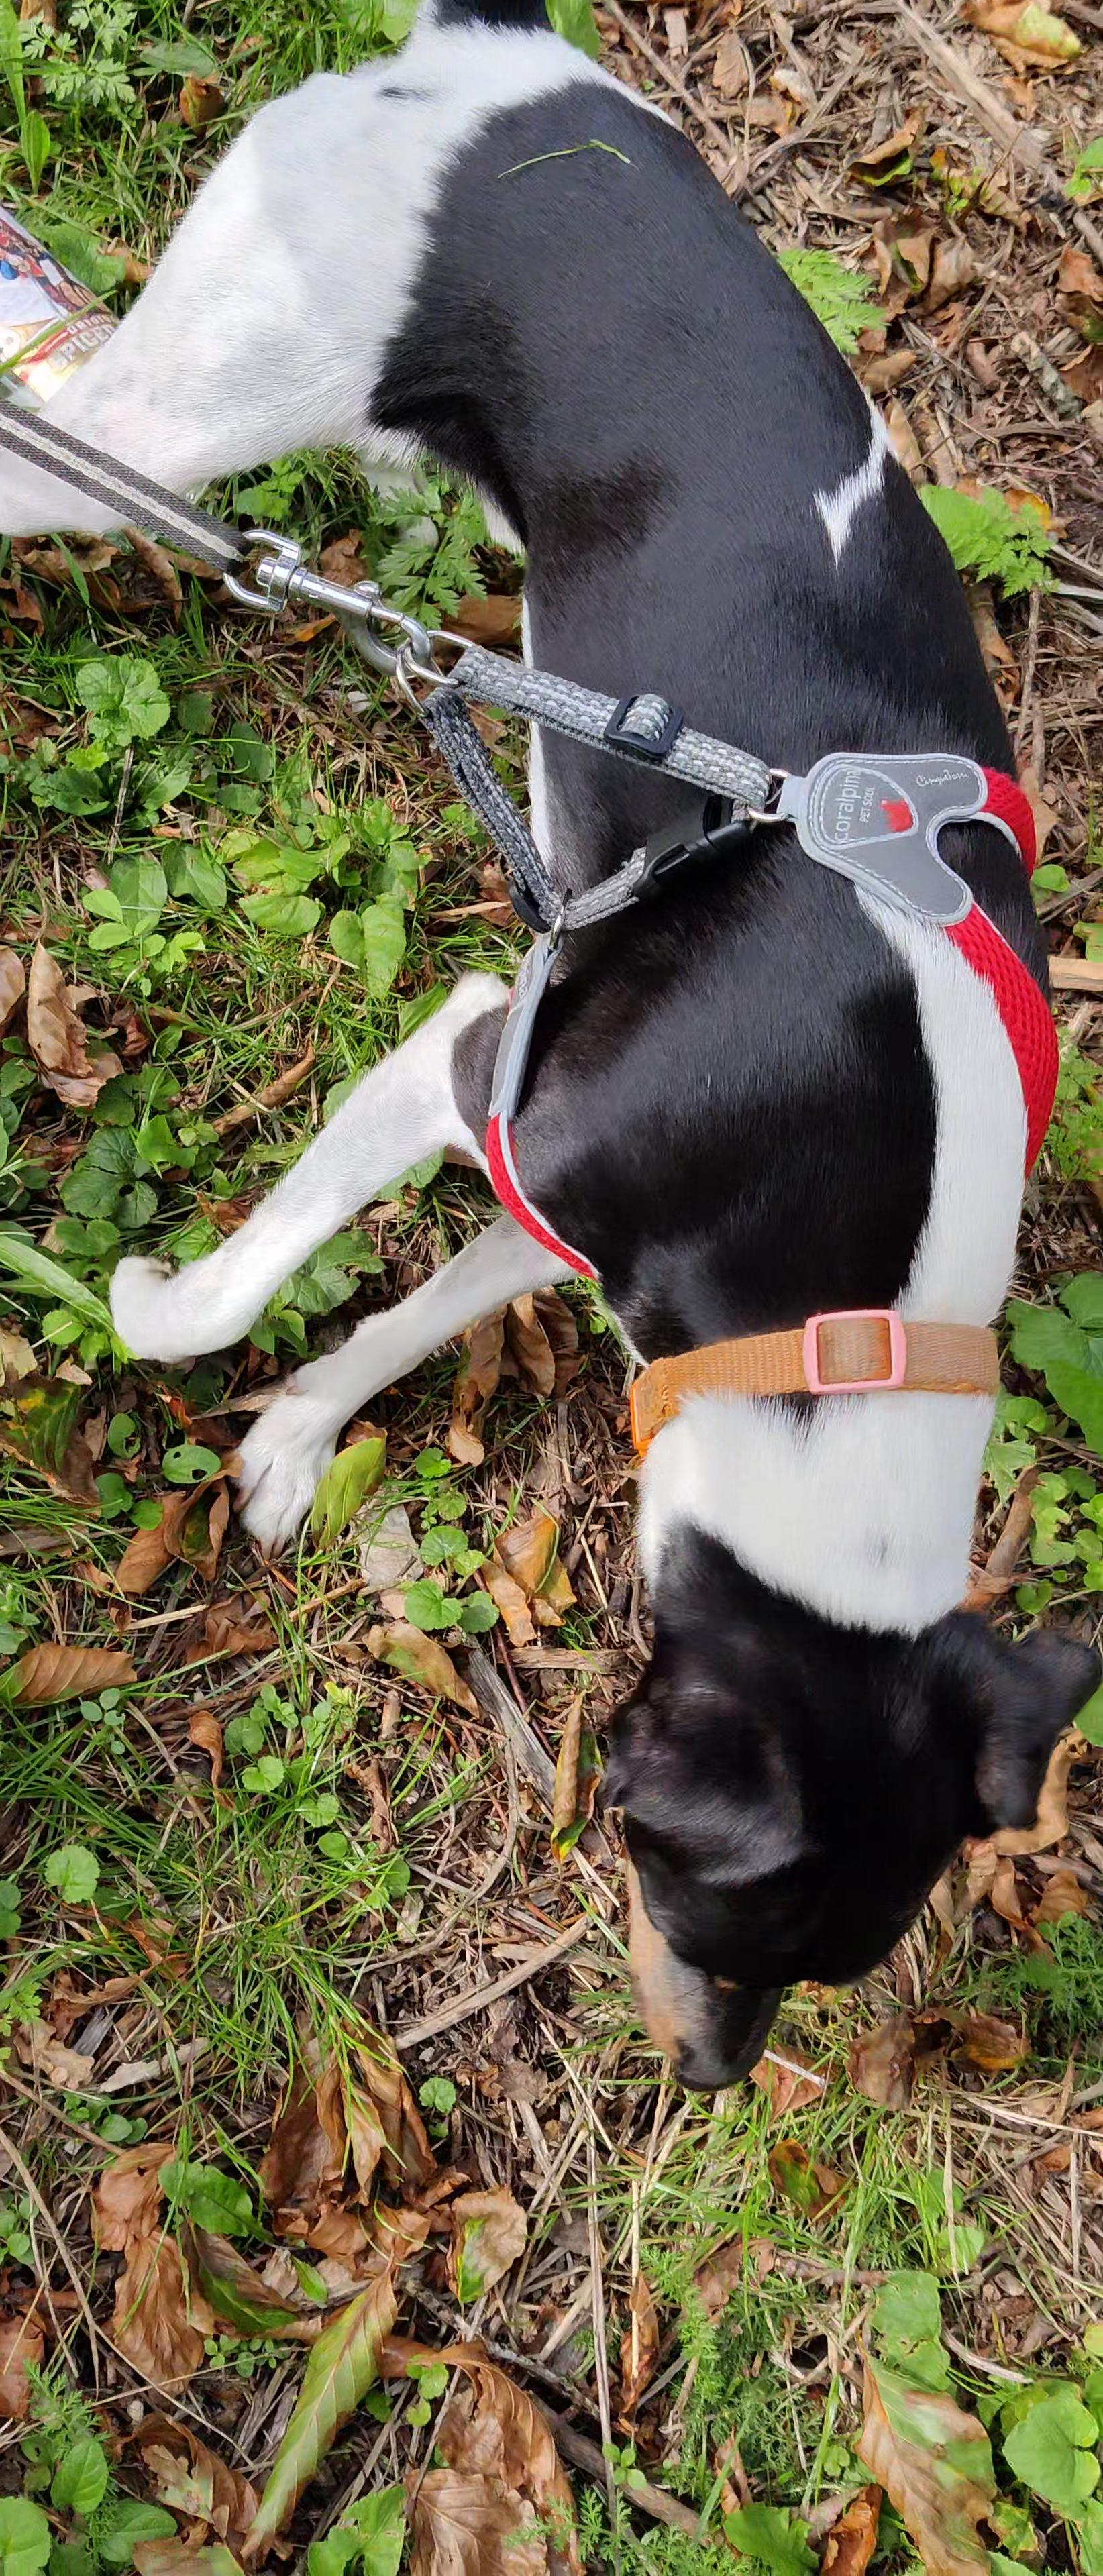Dog: (0, 0, 1103, 2108)
